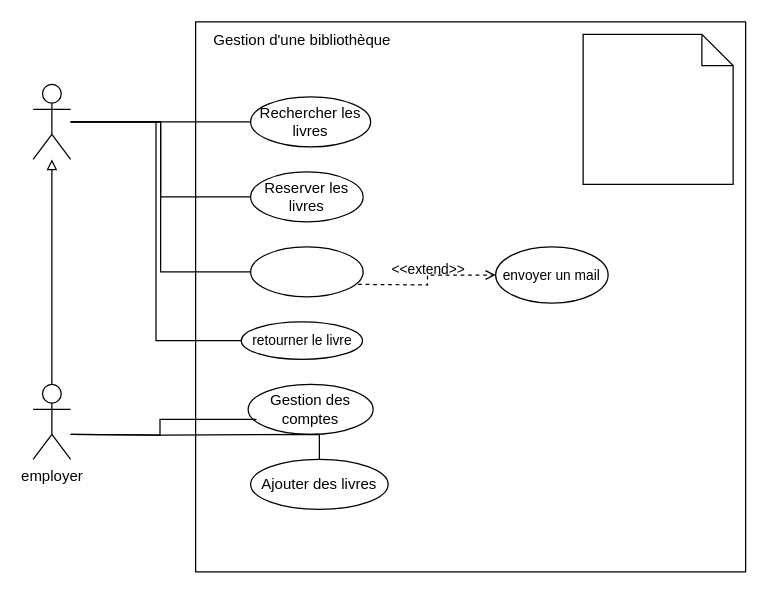
The diagram is 768 pixels wide and 594 high, and some of its shapes have lost their labels. Each missing label, with the centre of its shape:
"Client" belongs at (51,121).
"emprunter les livres" belongs at (306,271).
"Un membre peut emprunter que 3 livres. la durée d'emprunt est de 3 semaines." belongs at (657,108).
